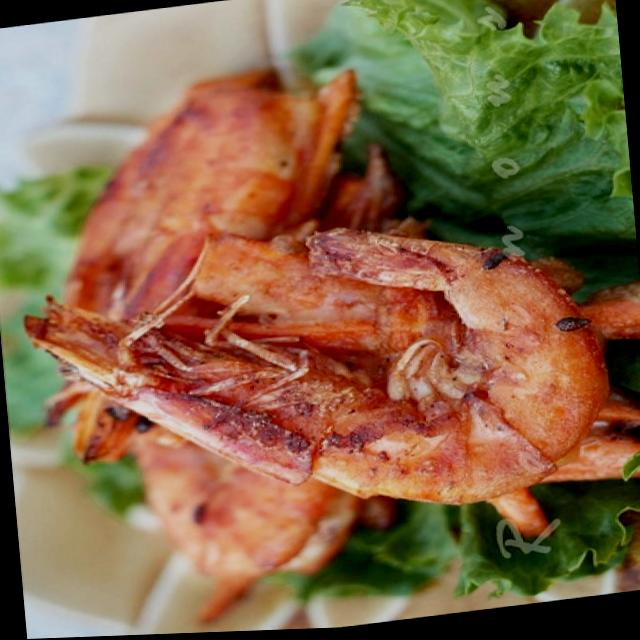炸货点心: (0, 6, 640, 640)
熟制海鲜: (0, 6, 640, 640)
